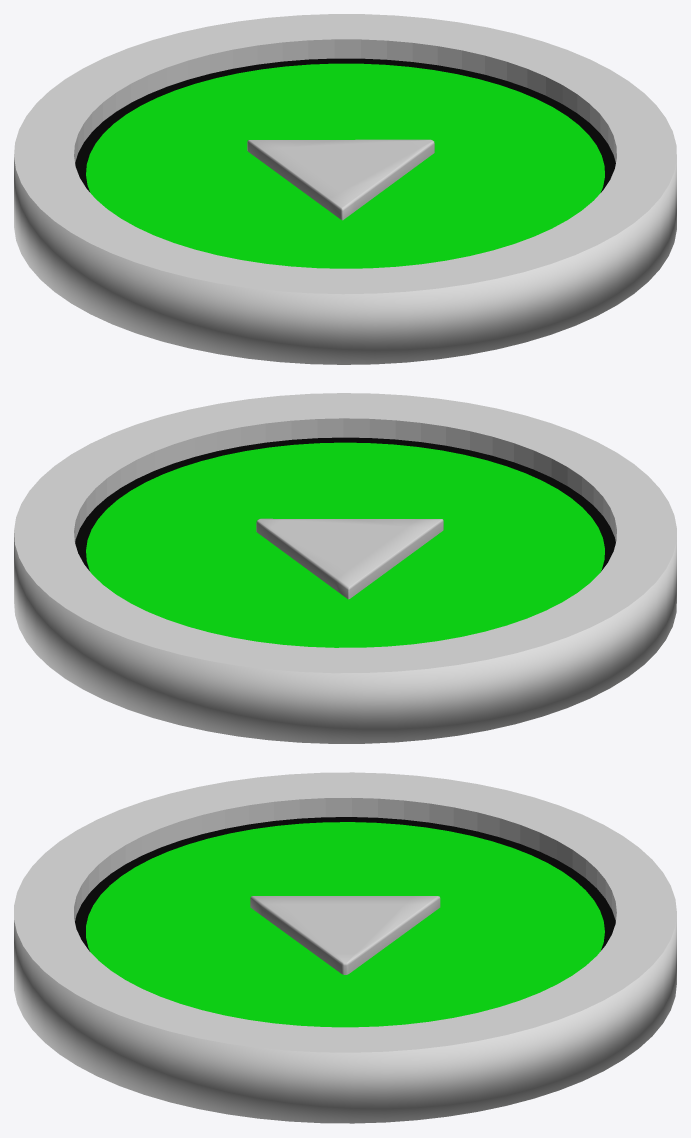
File: Play.fbx
3 views of the same model, one above another, from view 1: azimuth 30°, elevation 25°; view 2: azimuth 150°, elevation 25°; view 3: azimuth 270°, elevation 25° (orthographic).
Parts seen in each view (by area): view 1: Play-Button; view 2: Play-Button; view 3: Play-Button.
Part boxes in pixels (left/top/right/bottom): Play-Button: left=14, top=14, right=676, bottom=364; Play-Button: left=14, top=393, right=676, bottom=743; Play-Button: left=14, top=772, right=676, bottom=1123.
Size of the model in its own units: 244 by 28.76 by 244.
